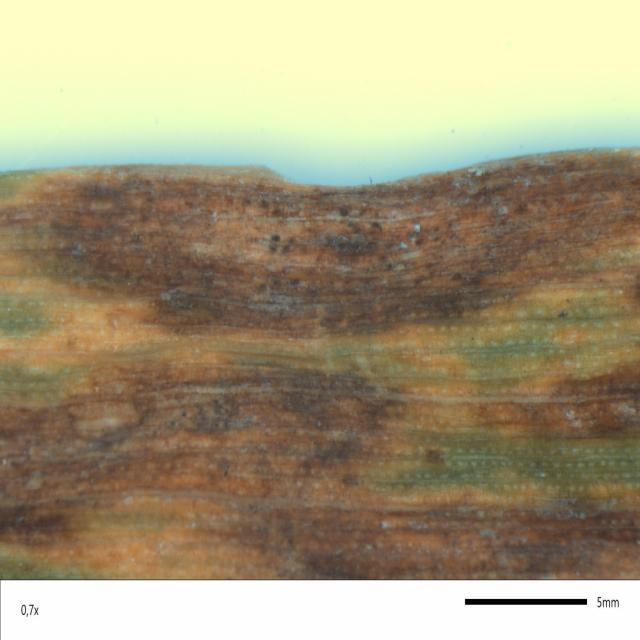wheat-septoria: (0, 170, 640, 581)
